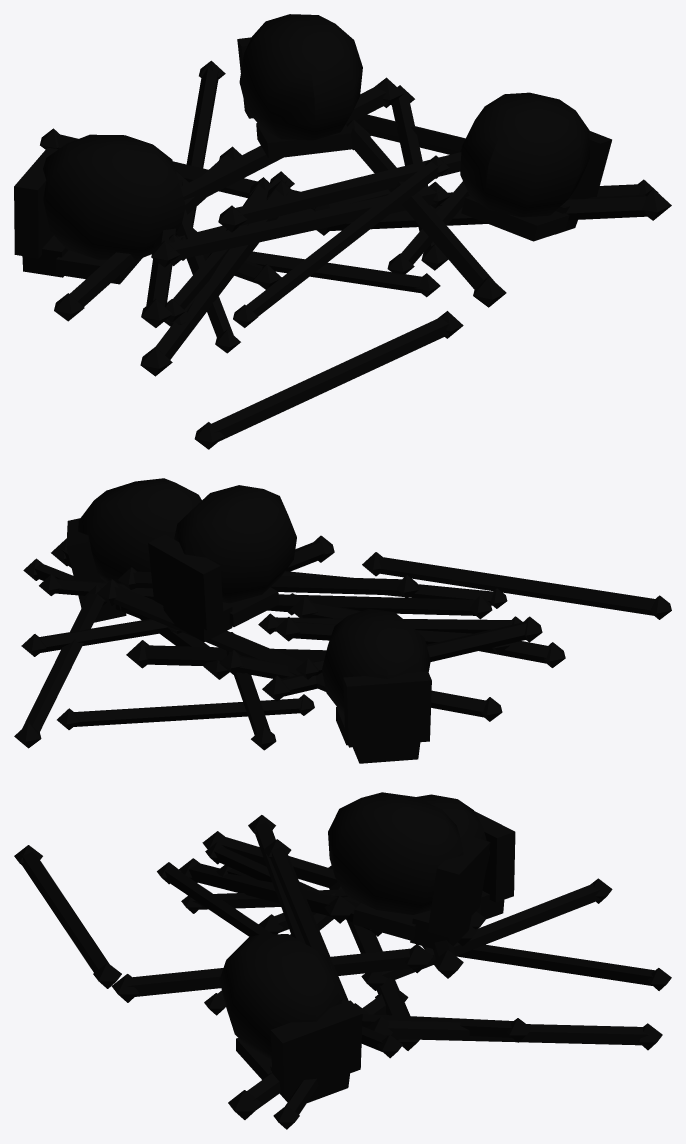
File: SM_bone_pile.fbx
3 renders of one model, top to bottom at view 1: azimuth 30°, elevation 25°; view 2: azimuth 150°, elevation 25°; view 3: azimuth 270°, elevation 25°, orthographic. The views are drawn at different scales.
Visible parts, largest first — view 1: bone_pile; view 2: bone_pile; view 3: bone_pile.
Boxes of the visible parts, left/top/right/bottom form: bone_pile: left=14, top=14, right=671, bottom=449; bone_pile: left=14, top=478, right=671, bottom=763; bone_pile: left=14, top=792, right=671, bottom=1129.
Size of the model in its own units: 0.8118 by 0.2816 by 0.8228.
